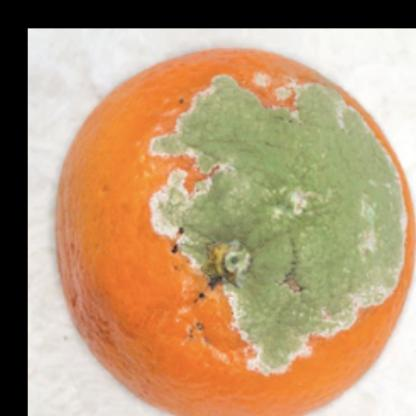rotten: (57, 47, 416, 416)
